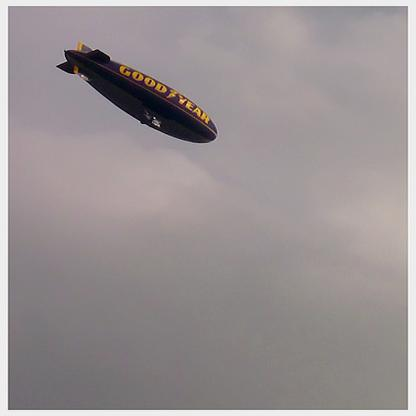Airship: (57, 39, 223, 153)
